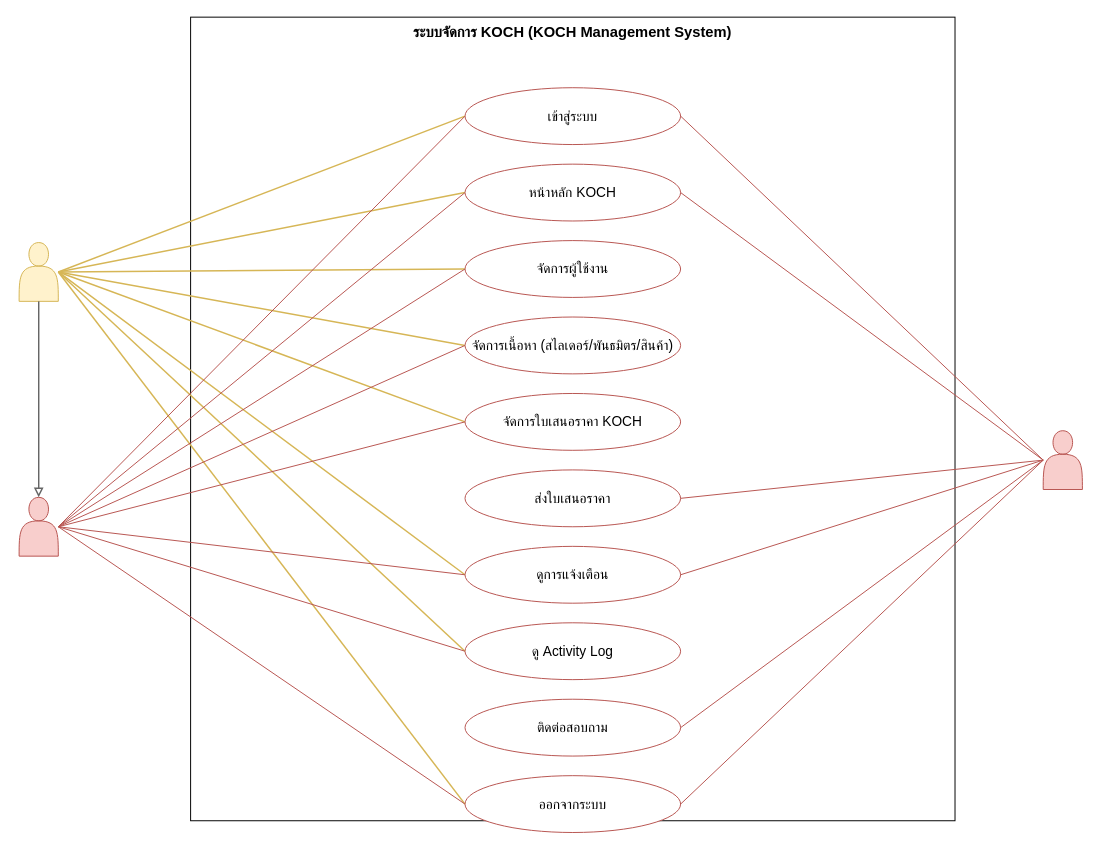
Some shapes in this 1100 by 850 pixel diagram are drawn without their labels. The box of each missing label's shape, as (x1, y1, x2, y2) in pixels:
Admin KOCH: (18, 496, 58, 556)
KOCH User: (1042, 430, 1082, 490)
Super Admin: (18, 242, 58, 301)
